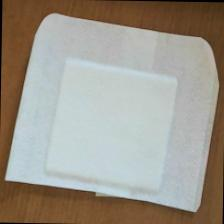Cut: (1, 9, 224, 220)
